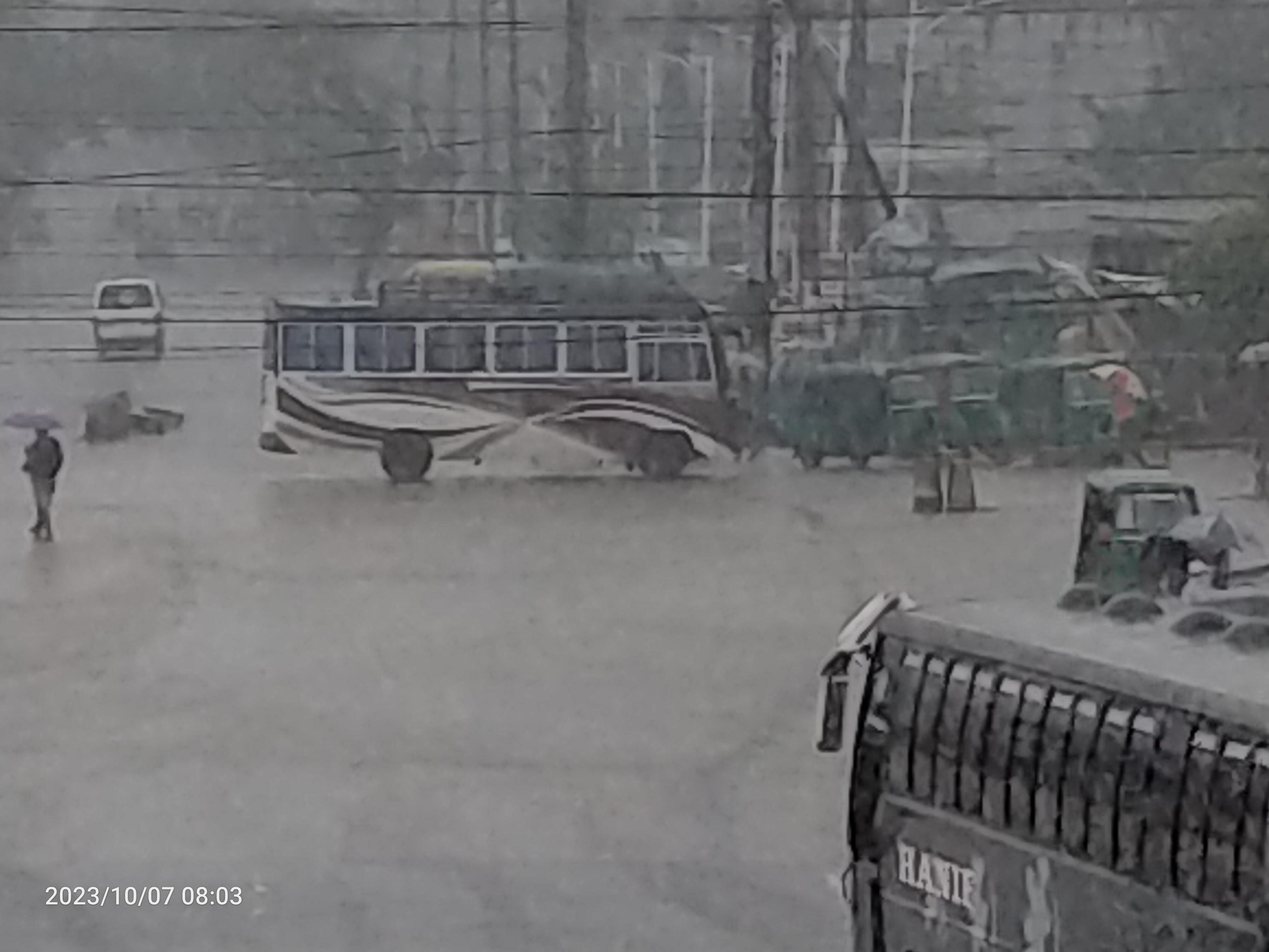Bus: (789, 568, 1269, 952), (224, 258, 751, 530)
Car: (66, 248, 174, 379)
